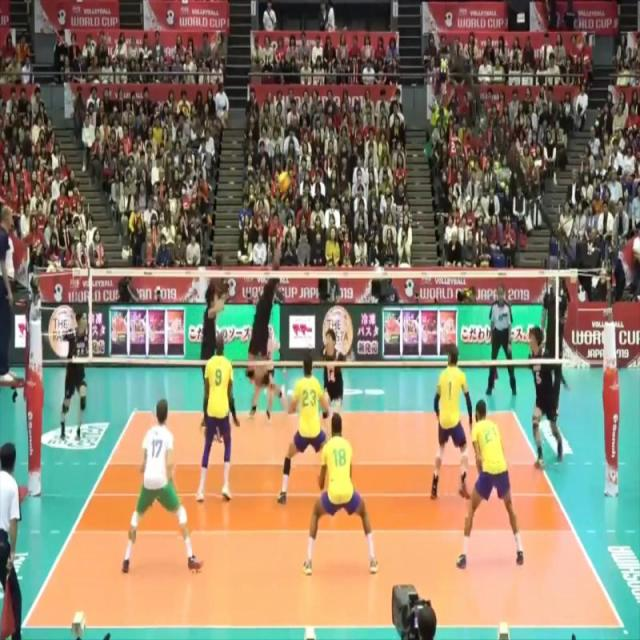volleyball: (276, 168, 292, 195)
